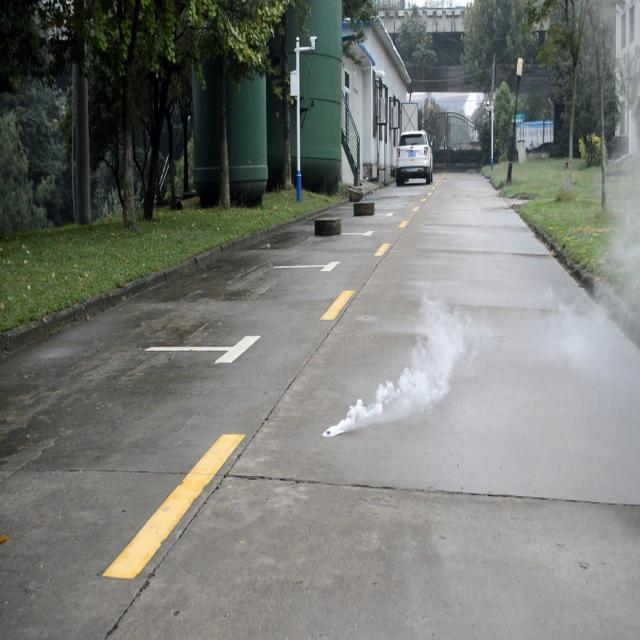smoke: (321, 292, 493, 438), (609, 15, 637, 317), (541, 289, 608, 373)
